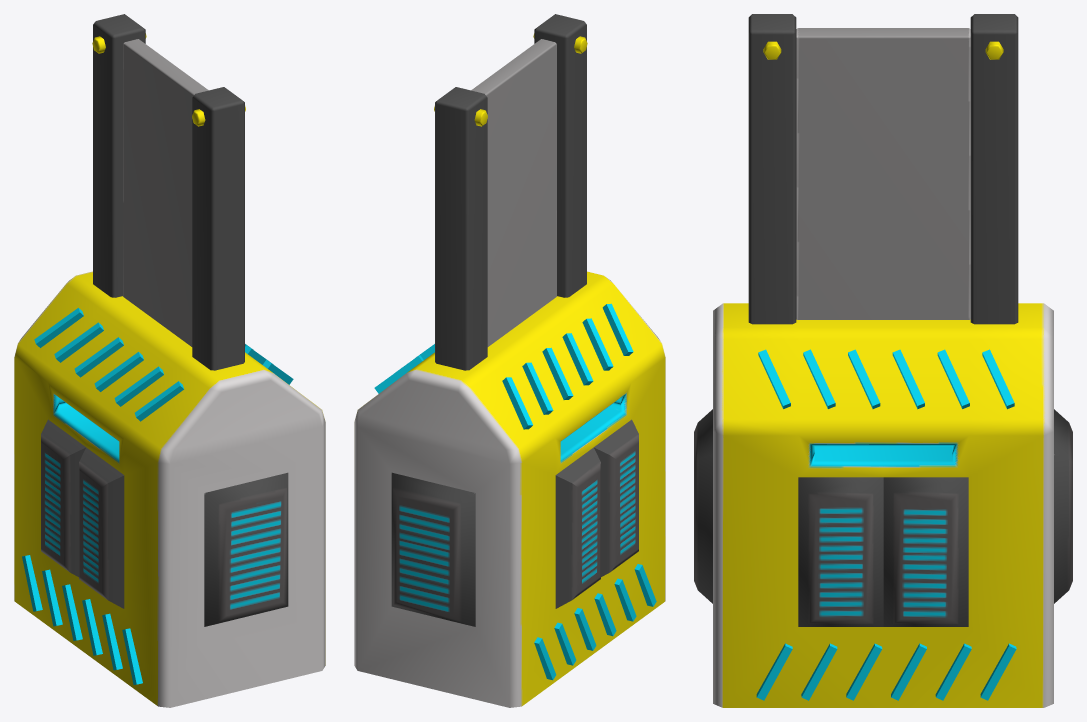
File: SM_Props_07.fbx
The picture shows the model from 3 angles, left to right: view 1: azimuth 30°, elevation 25°; view 2: azimuth 150°, elevation 25°; view 3: azimuth 270°, elevation 25°; orthographic projection. The views are drawn at different scales.
Visible parts, largest first — view 1: SM_Props_07; view 2: SM_Props_07; view 3: SM_Props_07.
Part boxes in pixels (box(x1,y1,x2,y2)): SM_Props_07: box(14, 14, 325, 707); SM_Props_07: box(354, 14, 665, 707); SM_Props_07: box(694, 14, 1072, 707).
Bounding box in the file's own units: 45.86 × 68.46 × 128.
